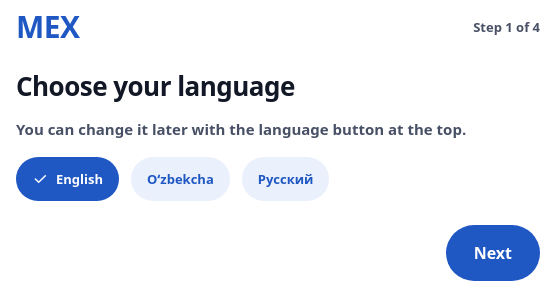
Test: OnboardingPage › changes the interface language at once on step 1
Click the button "Русский" at (286, 179), box top-left (242, 157), bottom-right (330, 201)
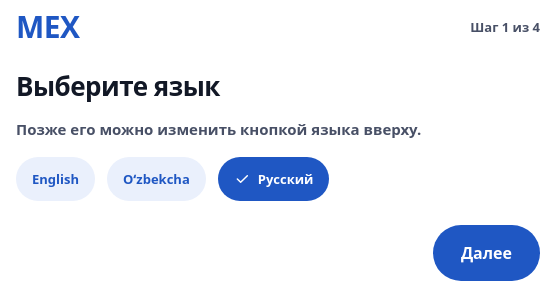
Check: the heading reads "Выберите язык", box top-left (16, 68), bottom-right (220, 104)
Check: the text "Шаг 1 из 4" is shown, box top-left (470, 18), bottom-right (540, 36)
